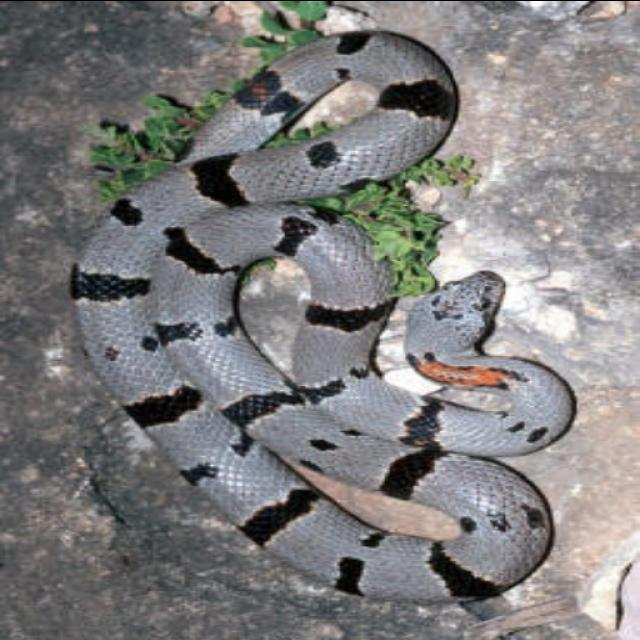snake: (56, 17, 580, 604)
